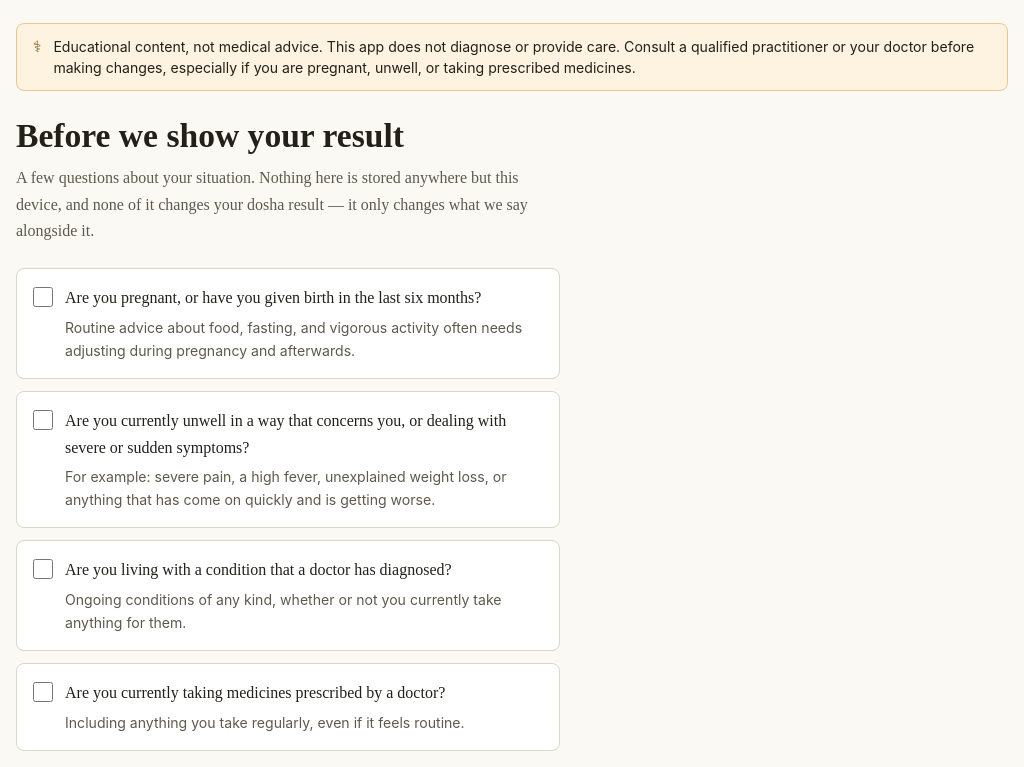
every red flag surfaces professional-care guidance before results › acute-symptoms
Click the 2nd checkbox: (43, 420) [33,410,53,430]
(page scrolled)
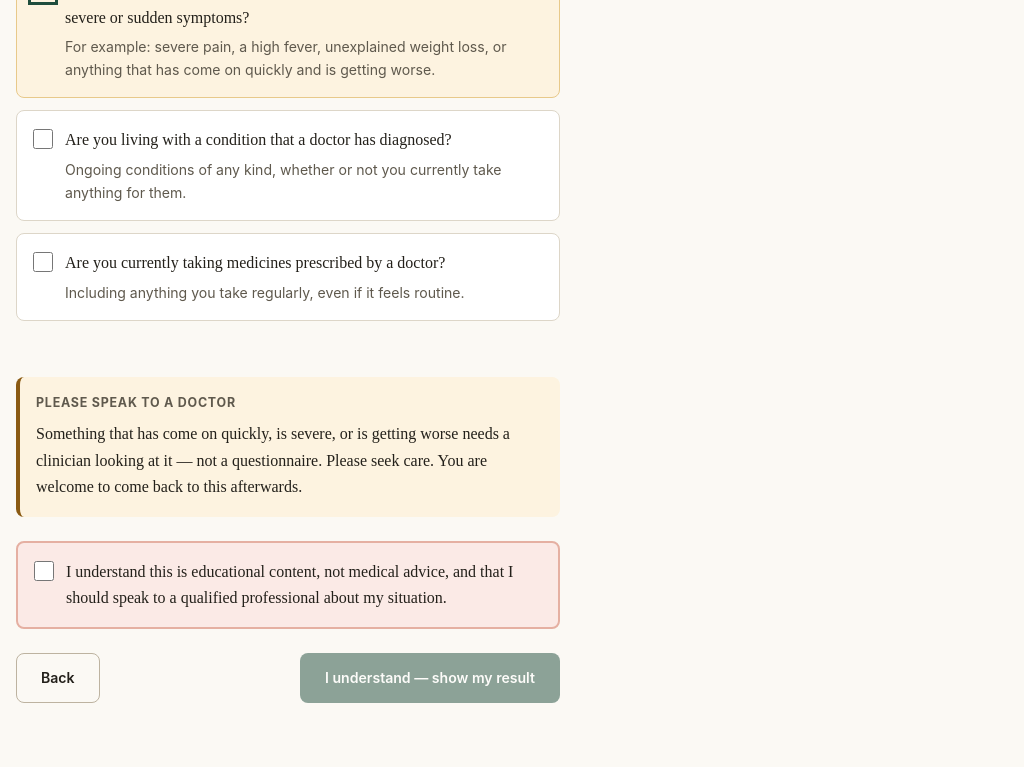
Expected: the element with test id "red-flag-messages" is shown, [16,377,560,517]
Expected: the element with test id "red-flag-messages" shows "Please speak to a doctor", [36,395,236,410]
